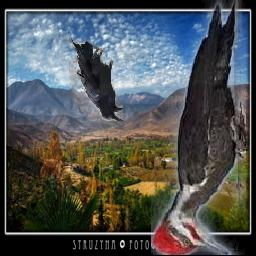Crow: (69, 37, 123, 122)
Woodpecker: (152, 1, 247, 256)
